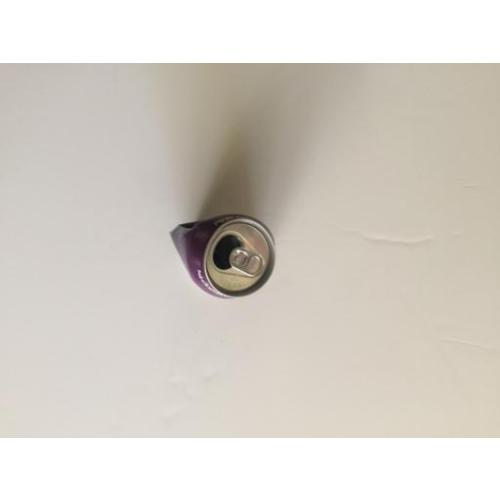metal: (168, 217, 273, 299)
